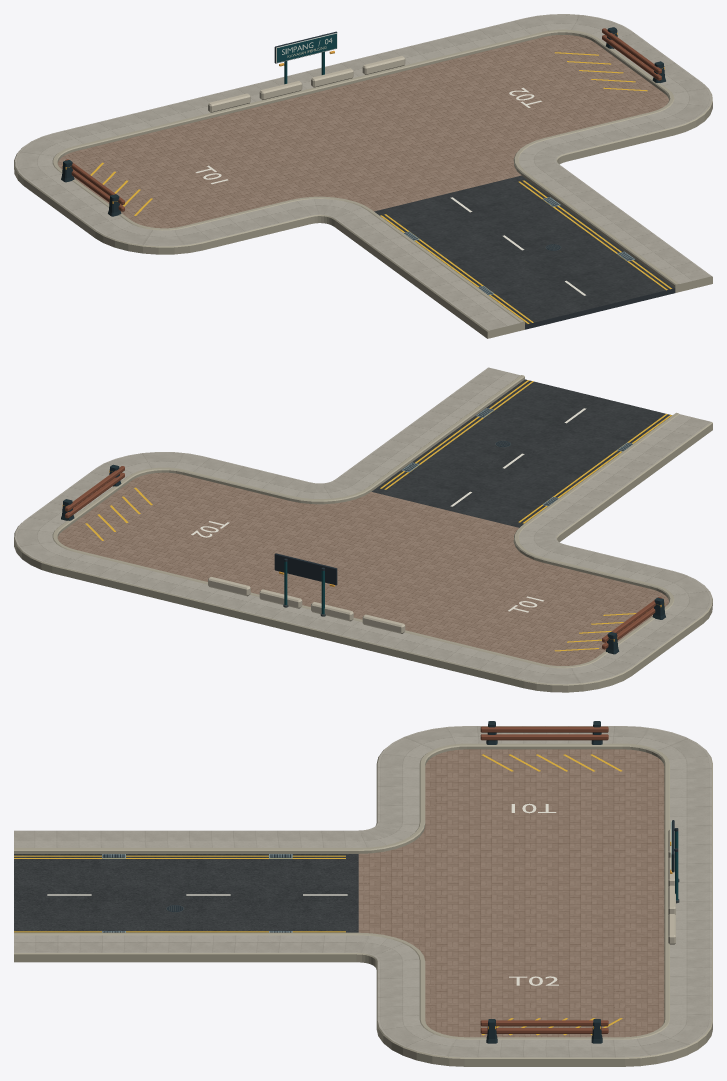
3 renders of one model, top to bottom at view 1: azimuth 30°, elevation 25°; view 2: azimuth 150°, elevation 25°; view 3: azimuth 270°, elevation 25°, orthographic. The views are drawn at different scales.
Visible parts, largest first — view 1: Hammerhead Setts, Kerbs and Footways, Road Deck, Apron Edge Blocks, Crash Timbers, Road Markings, Court Notice, Buffer Stanchions, Setback Hatching; view 2: Hammerhead Setts, Kerbs and Footways, Road Deck, Apron Edge Blocks, Crash Timbers, Road Markings, Court Notice, Buffer Stanchions, Setback Hatching; view 3: Hammerhead Setts, Kerbs and Footways, Road Deck, Crash Timbers, Road Markings, Buffer Stanchions, Apron Edge Blocks, Setback Hatching.
Part boxes in pixels (x1,y1,x2,y2): Hammerhead Setts: (57,35,668,228); Kerbs and Footways: (14,14,712,338); Road Deck: (374,175,675,329); Apron Edge Blocks: (208,56,405,112); Crash Timbers: (65,28,661,211); Road Markings: (380,180,671,323); Court Notice: (274,31,337,84); Buffer Stanchions: (61,27,665,216); Setback Hatching: (90,52,647,215); Hammerhead Setts: (57,472,668,665); Kerbs and Footways: (14,367,712,692); Road Deck: (372,379,670,527); Apron Edge Blocks: (208,577,405,633); Crash Timbers: (65,466,661,649); Road Markings: (380,380,671,523); Court Notice: (274,553,337,616); Buffer Stanchions: (61,464,665,654); Setback Hatching: (85,487,636,651); Hammerhead Setts: (358,749,664,1037); Kerbs and Footways: (14,726,712,1066); Road Deck: (14,854,358,932); Crash Timbers: (480,726,608,1033); Road Markings: (14,855,347,932); Buffer Stanchions: (486,721,602,1043); Apron Edge Blocks: (668,829,675,944); Setback Hatching: (481,754,622,1035).
Size of the model in its own units: 28.3 by 2.53 by 25.15.
17 materials, 3 textured.
